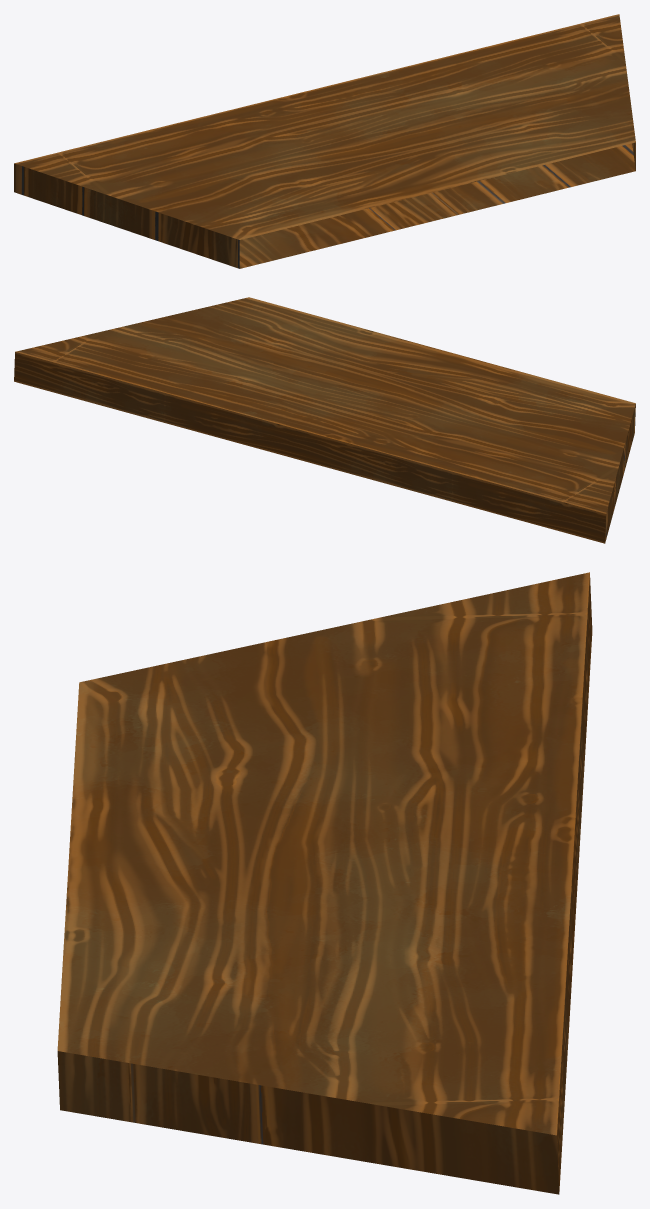
3 views of the same model, one above another, from view 1: azimuth 30°, elevation 25°; view 2: azimuth 150°, elevation 25°; view 3: azimuth 270°, elevation 25° (orthographic). The views are drawn at different scales.
Visible parts, largest first — view 1: Cube.1982; view 2: Cube.1982; view 3: Cube.1982.
Part boxes in pixels (left/top/right/bottom): Cube.1982: left=14, top=14, right=635, bottom=268; Cube.1982: left=14, top=297, right=635, bottom=543; Cube.1982: left=57, top=572, right=592, bottom=1194.
Size of the model in its own units: 813 by 60.25 by 315.
1 material, 1 textured.
